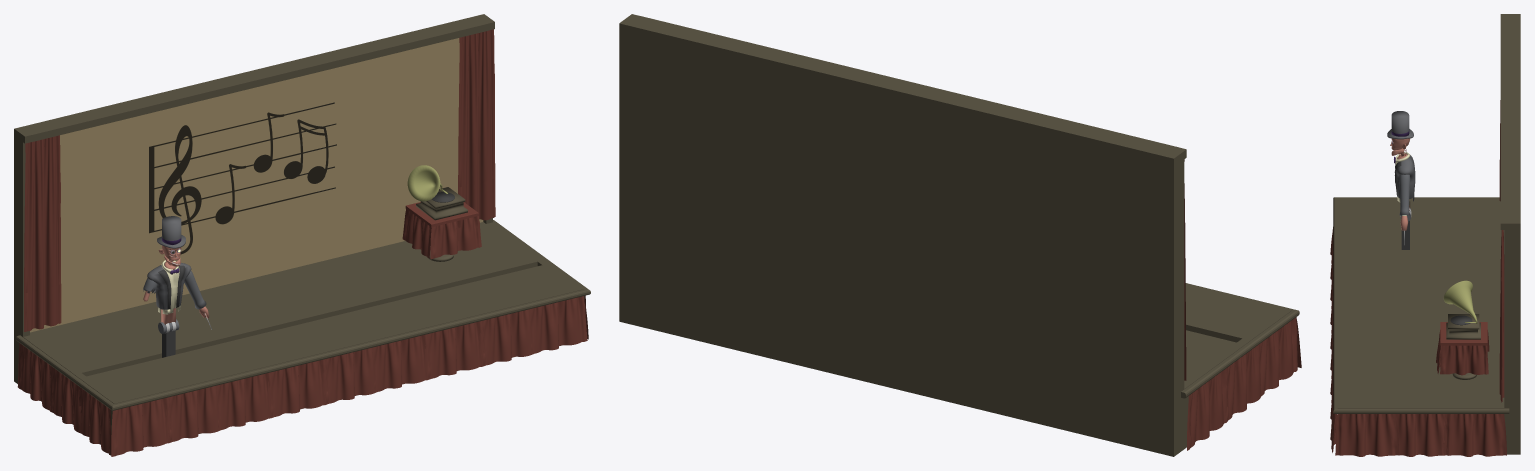
The model's file is Musician.and.stage.glb.
3 renders of one model, left to right at view 1: azimuth 30°, elevation 25°; view 2: azimuth 150°, elevation 25°; view 3: azimuth 270°, elevation 25°, orthographic. The views are drawn at different scales.
Parts seen in each view (by area): view 1: Stage, Curtain.side.back.007, Curtain.side.back.003, Curtain.side.back.001, music-304709_1280, Curtain.side.back.002, Curtain.side.back.008, Upper.torso, Gramo.horn, Curtain.side.back.005, Gramophone, Table; view 2: Stage, Curtain.side.back.002; view 3: Stage, Curtain.side.back.004, Curtain.side.back.006, Curtain.side.back.001, Curtain.side.back.007, Gramo.horn, Gramophone, Table, Upper.torso, Arm.left, Hat.001.
Boxes of the visible parts, box(x1,y1,x2,y2) form: Stage: box(14, 14, 590, 447); Curtain.side.back.007: box(111, 296, 587, 456); Curtain.side.back.003: box(24, 135, 61, 331); Curtain.side.back.001: box(458, 29, 495, 220); music-304709_1280: box(149, 102, 336, 254); Curtain.side.back.002: box(17, 343, 111, 455); Curtain.side.back.008: box(430, 216, 481, 259); Upper.torso: box(147, 263, 191, 324); Gramo.horn: box(407, 165, 448, 201); Curtain.side.back.005: box(402, 209, 430, 258); Gramophone: box(416, 187, 467, 220); Table: box(405, 202, 478, 245); Stage: box(619, 14, 1299, 456); Curtain.side.back.002: box(1187, 317, 1297, 450); Stage: box(1333, 14, 1520, 454); Curtain.side.back.004: box(1335, 414, 1506, 456); Curtain.side.back.006: box(1440, 345, 1488, 375); Curtain.side.back.001: box(1499, 230, 1504, 402); Curtain.side.back.007: box(1330, 227, 1337, 452); Gramo.horn: box(1443, 280, 1477, 323); Gramophone: box(1446, 314, 1480, 339); Table: box(1440, 322, 1487, 350); Upper.torso: box(1394, 155, 1415, 210); Arm.left: box(1399, 174, 1410, 230); Hat.001: box(1391, 111, 1409, 136).
Size of the model in its own units: 41.81 by 20.93 by 15.62.
Materials: 16 (1 with a texture image).
